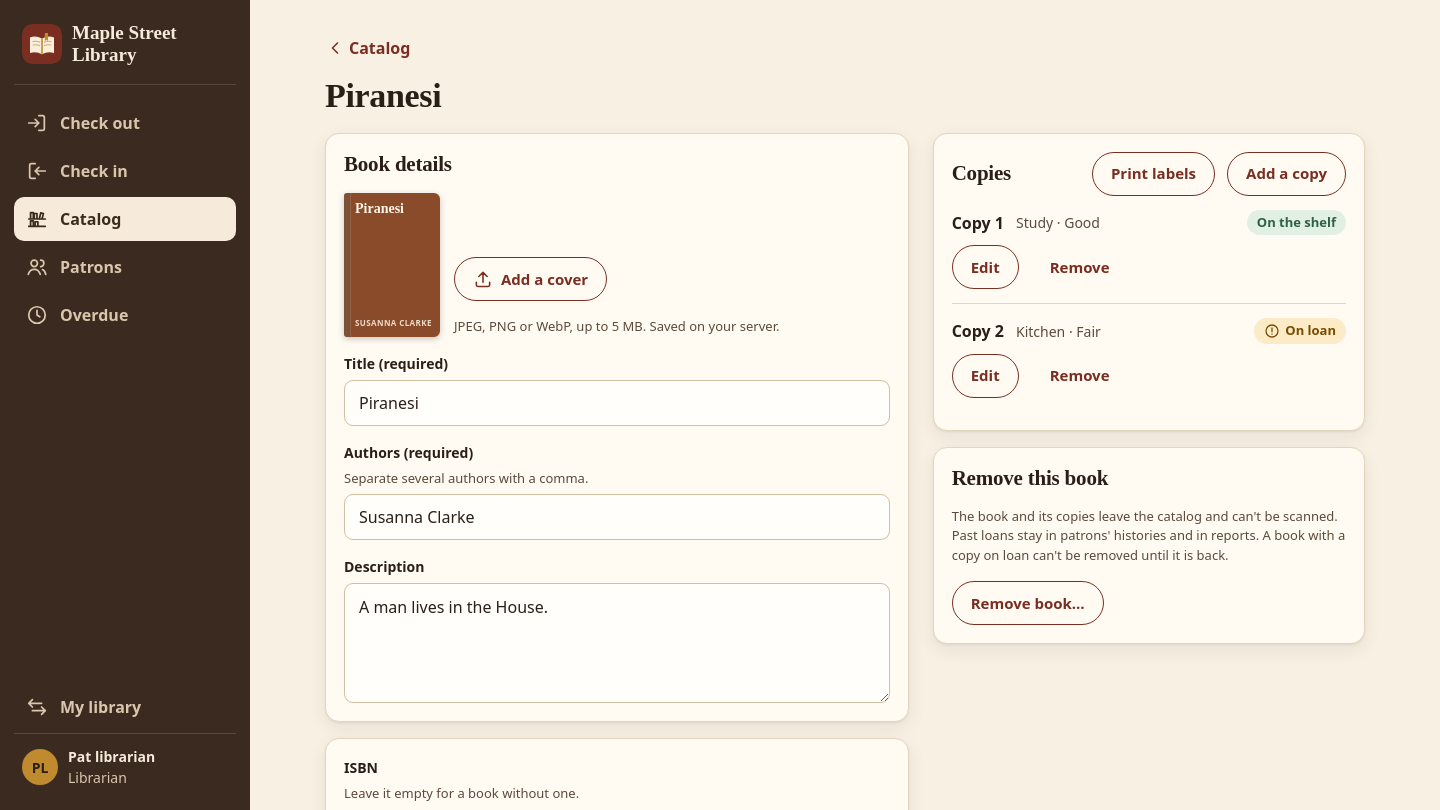
Test: CAT-5 Manage inventory: a book › a book with a copy on loan can't be removed: the reason is shown
Click the button "Remove book…": (1028, 604) [952,582,1104,626]
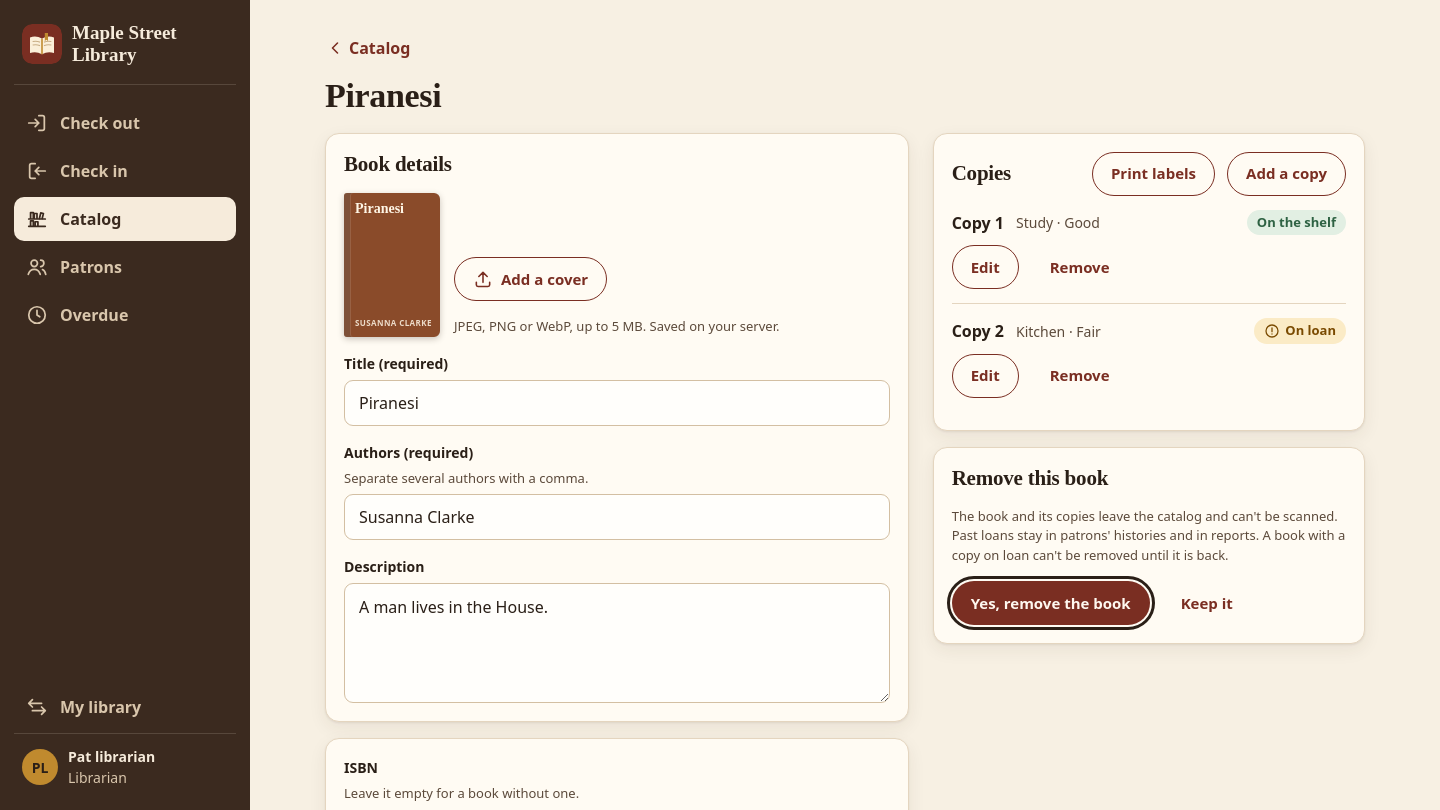
Click the button "Yes, remove the book": (1051, 604) [952,582,1150,626]
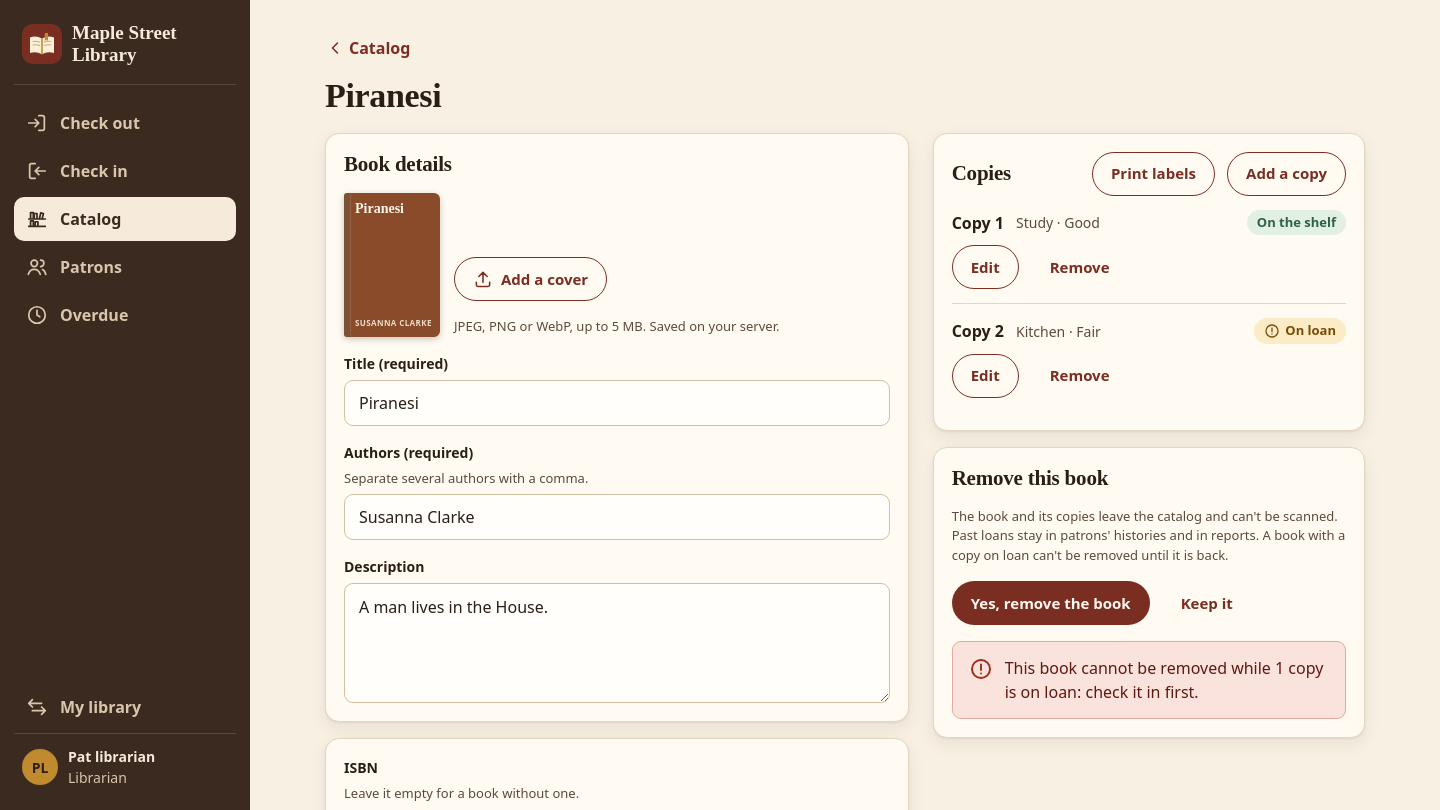
Now the text "This book cannot be removed while 1 copy is on loan: check it in first." is shown, box [1005,656,1329,704]
